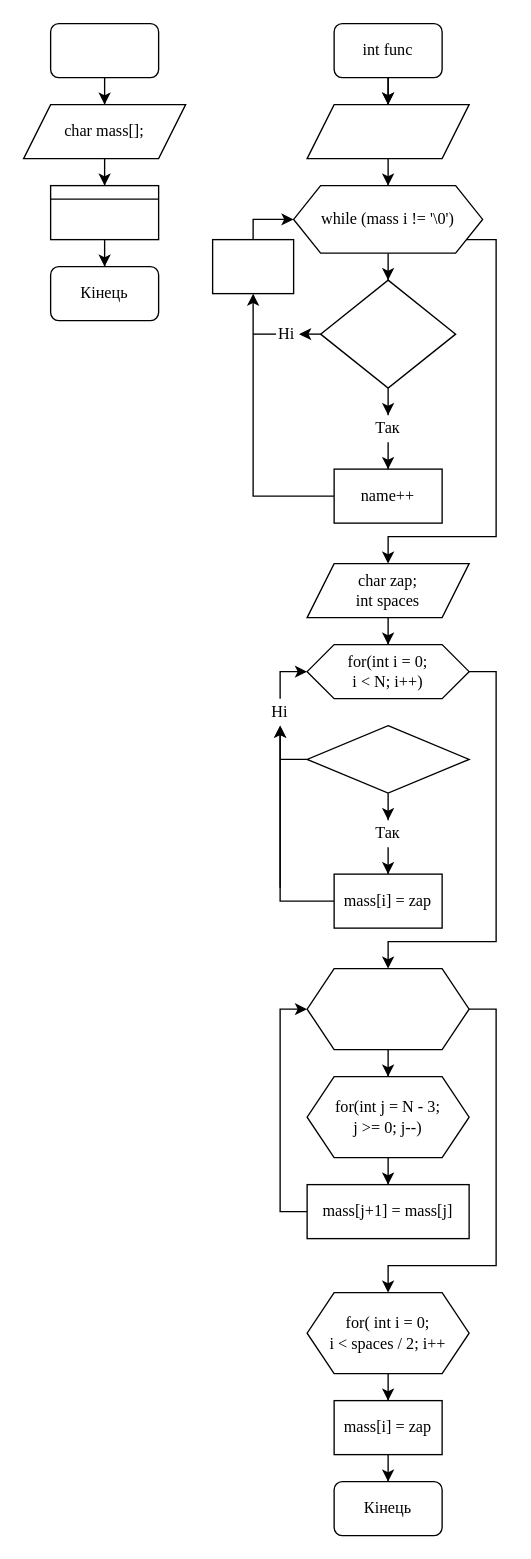
Some shapes in this 531 by 1559 pixel diagram are drawn without their labels. Each missing label, with the centre of its shape:
for(int i = 0; i < spaces / 2; i++): point (387, 1008)
func: point (104, 212)
i++: point (252, 266)
if (mass i == ' '): point (387, 758)
int name; int i = 0;: point (387, 131)
mass[i] != ' ': point (387, 333)
Початок: point (104, 50)
